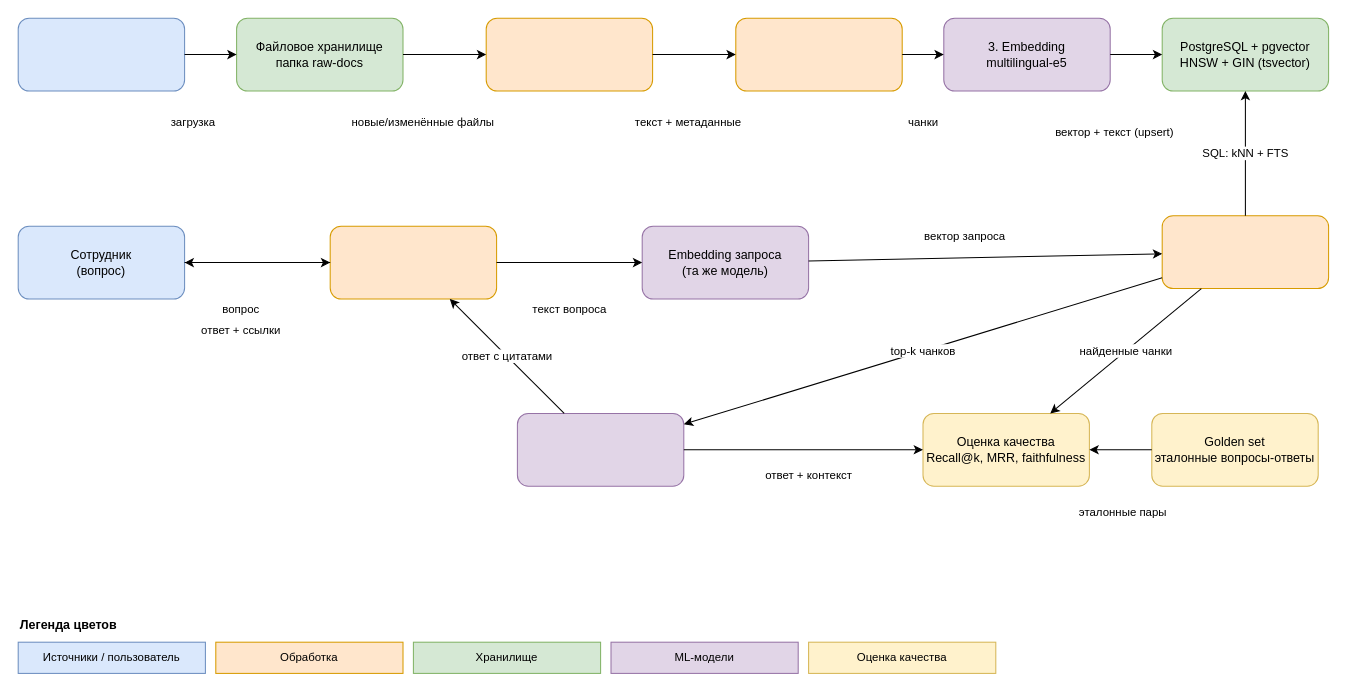
The diagram is 1347 pixels wide and 692 high, and some of its shapes have lost their labels. The box of each missing label's shape, as (x1, y1, x2, y2) in pixels:
1. Ingestion Apache Tika + hash файла: (485, 17, 653, 91)
2. Chunking ~500 токенов, overlap 50: (735, 17, 902, 91)
4. Гибридный поиск вектор + FTS → RRF: (1161, 215, 1329, 289)
5. Генерация LLM + промпт с чанками: (516, 412, 684, 486)
RAG API: (329, 225, 497, 299)
Документы PDF / DOCX: (17, 17, 185, 91)
